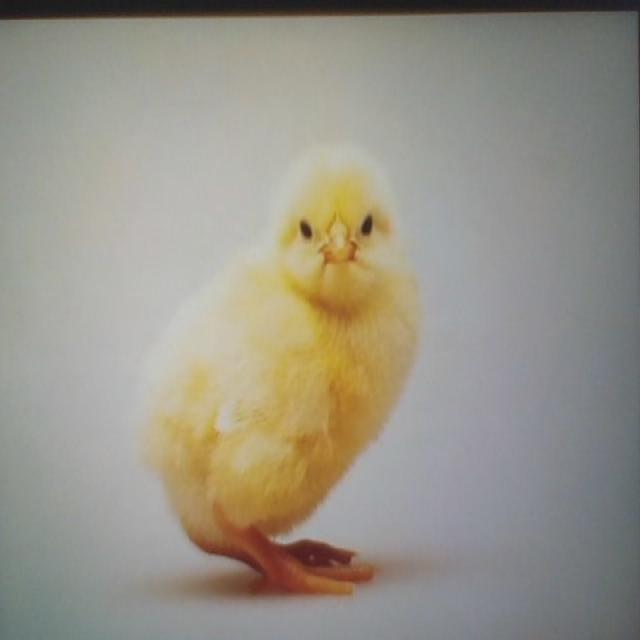Healthy: (140, 142, 422, 597)
